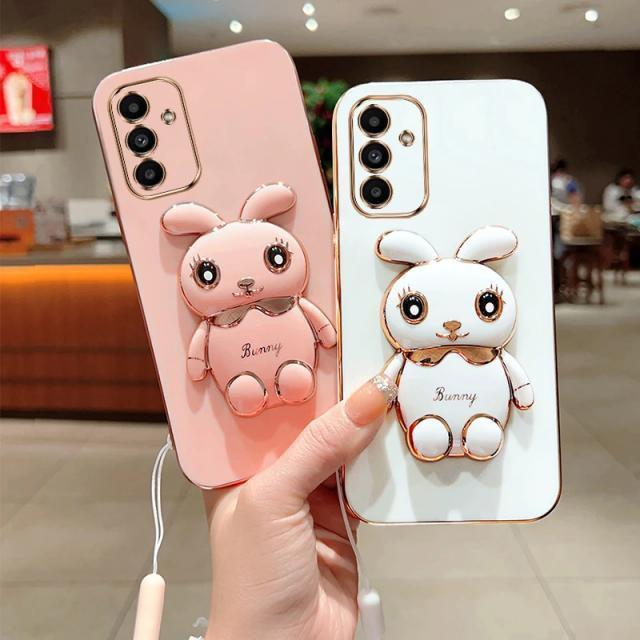Mobile: (84, 32, 336, 488), (333, 75, 566, 529)
